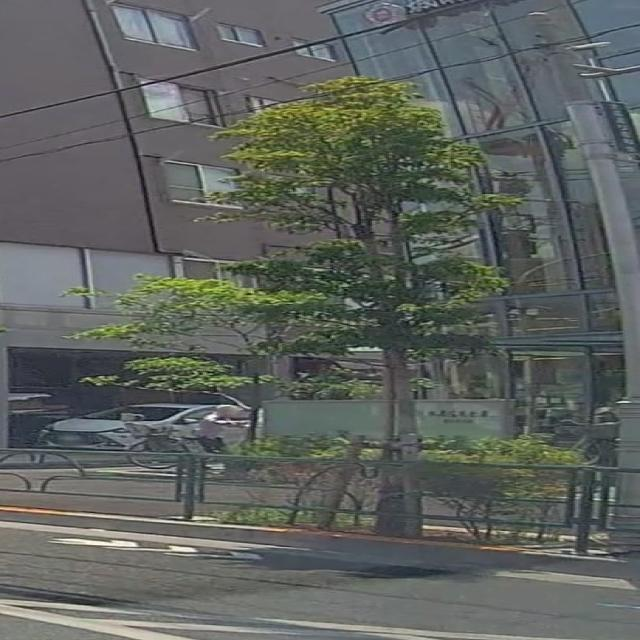maple: (56, 76, 529, 532)
